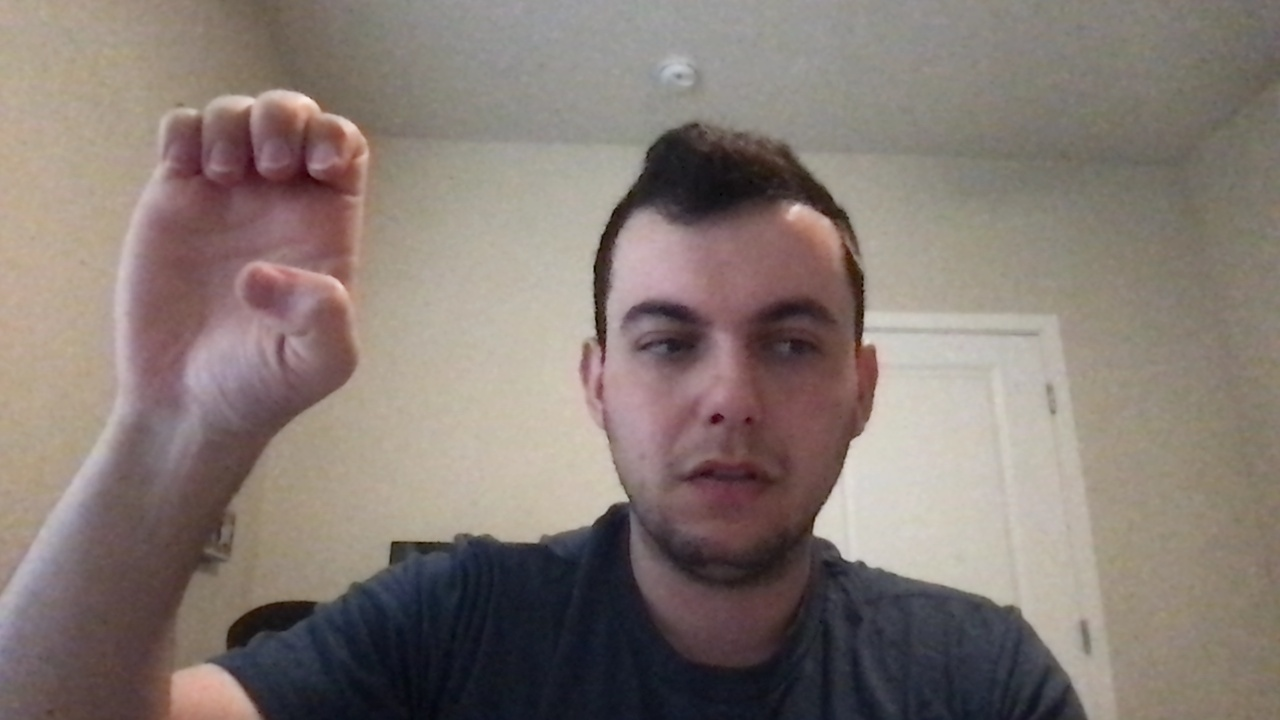e: (114, 86, 384, 442)
